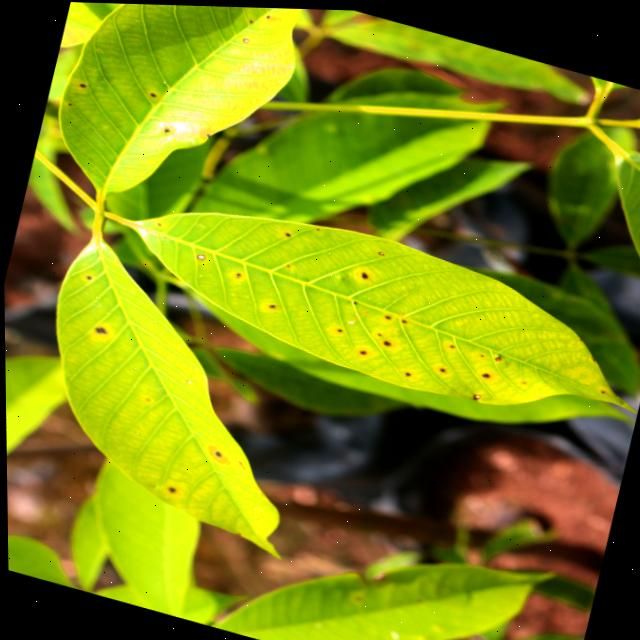Colletotrichum: (195, 251, 204, 258), (360, 269, 367, 275), (377, 248, 384, 252)
